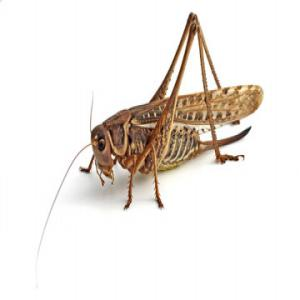locust: (79, 29, 272, 213)
